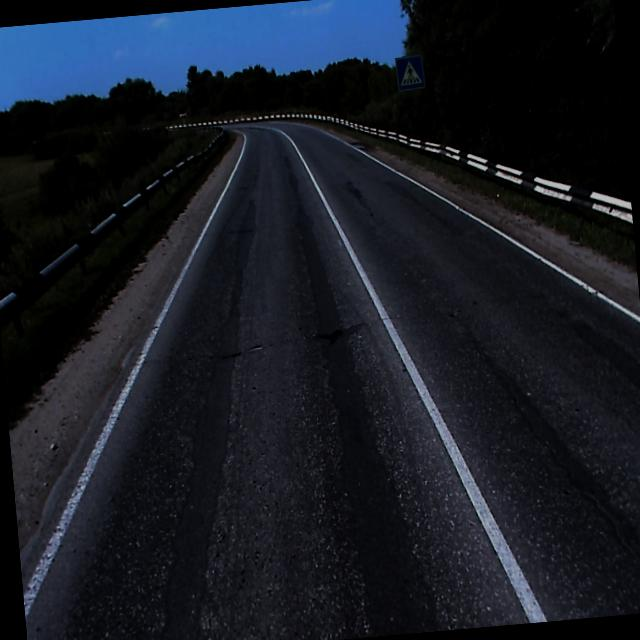road: (19, 119, 640, 640)
